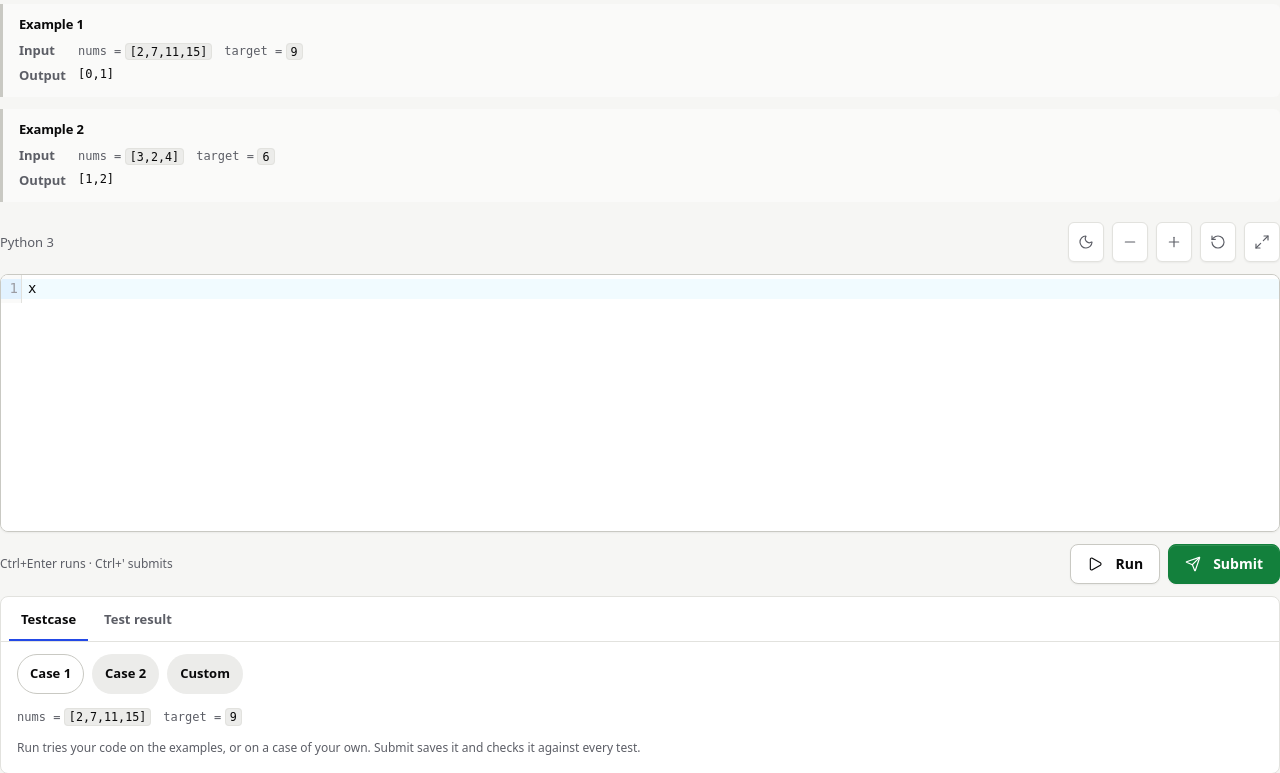
Test case: the coding workspace › submits, and reports every test, hidden ones by verdict alone
Step 1. Click the button "Submit" → click(1224, 564), box top-left (1168, 544), bottom-right (1279, 584)
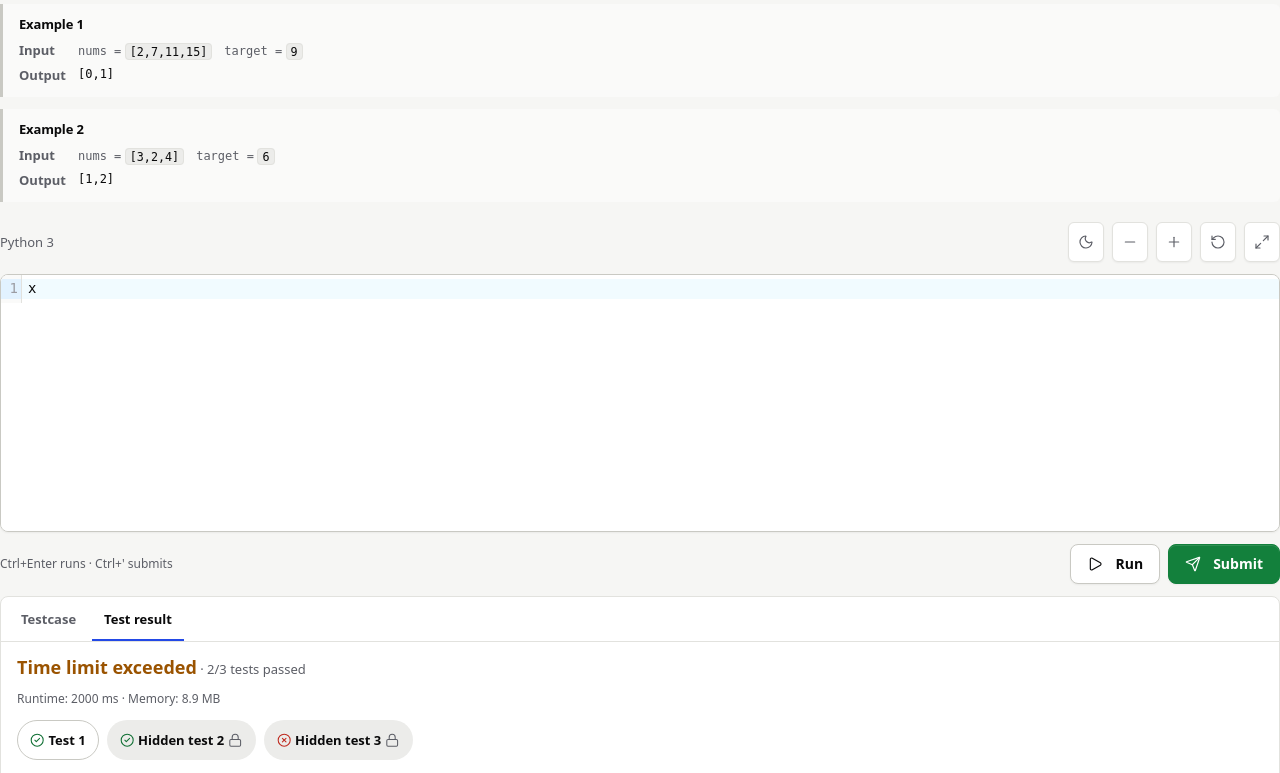
Check: the element named "Submission results" shows "Time limit exceeded", box top-left (17, 655), bottom-right (197, 679)
Check: the element named "Submission results" shows "2/3 tests passed", box top-left (207, 660), bottom-right (306, 678)
Step 2. Click the button "Hidden test 3" → click(338, 740), box top-left (264, 720), bottom-right (413, 760)
(page scrolled)
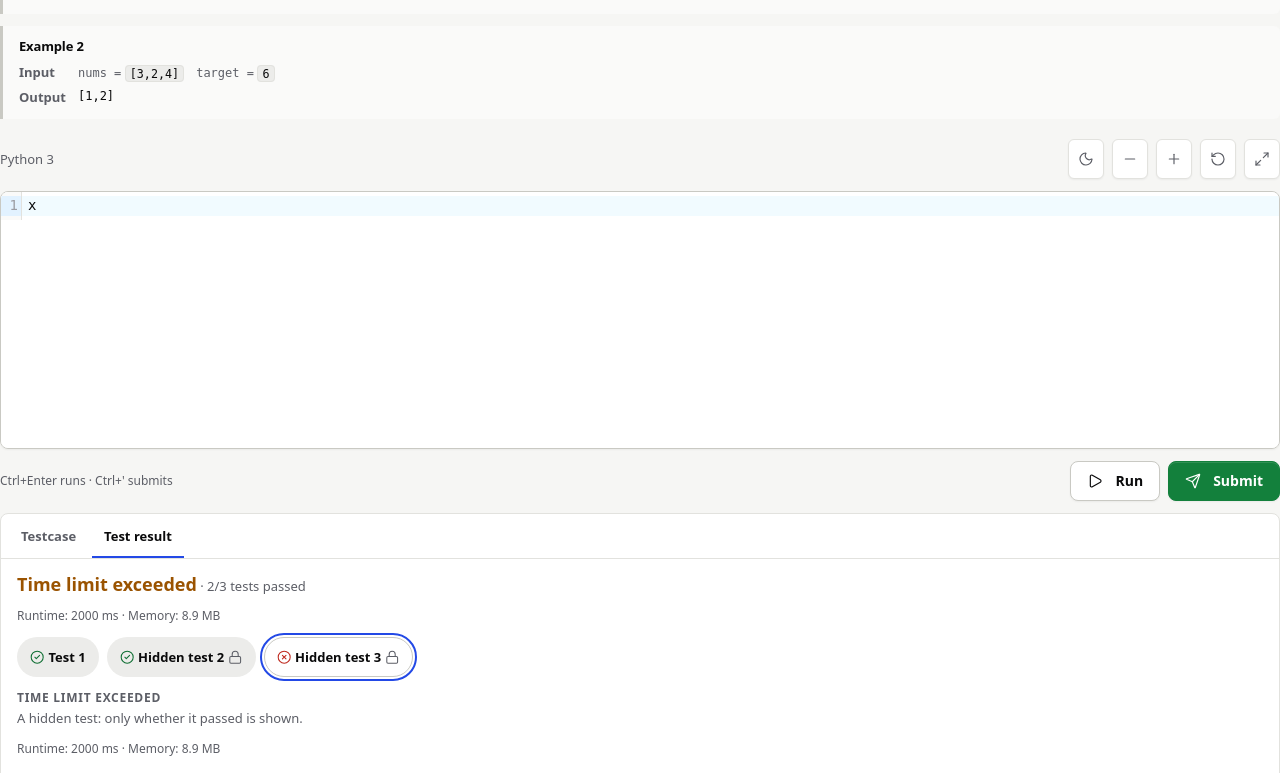
Check: the element named "Submission results" shows "only whether it passed is shown", box top-left (17, 709), bottom-right (303, 727)
